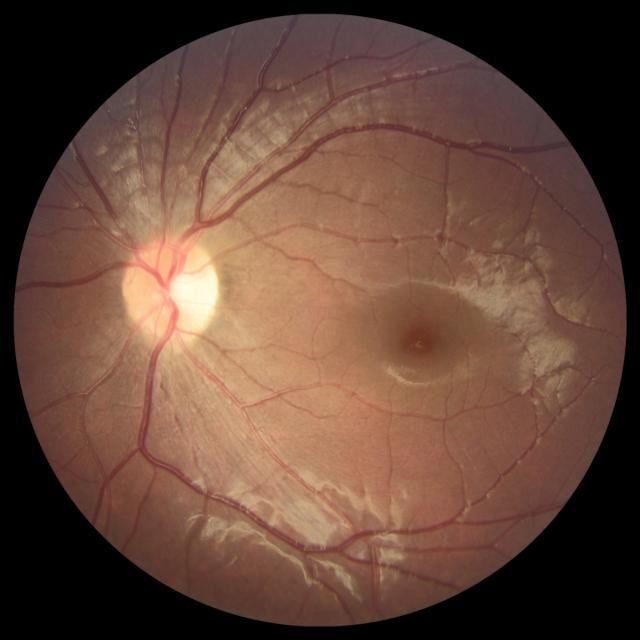OC: (162, 269, 203, 313)
OD: (123, 234, 218, 346)
